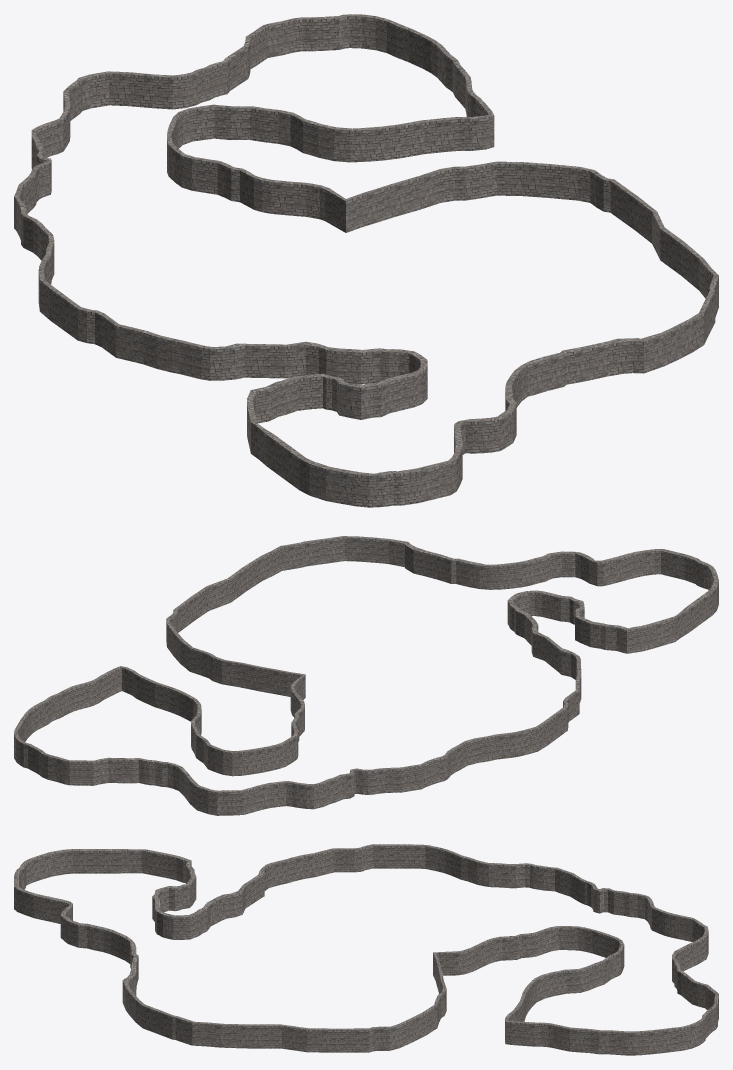
Rendered from FlatK_OuterSupport.fbx.
The picture shows the model from 3 angles, top to bottom: view 1: azimuth 30°, elevation 25°; view 2: azimuth 150°, elevation 25°; view 3: azimuth 270°, elevation 25°; orthographic projection. The views are drawn at different scales.
Visible parts, largest first — view 1: BottomSupport; view 2: BottomSupport; view 3: BottomSupport.
Part boxes in pixels (x1,y1,x2,y2): BottomSupport: [14, 14, 718, 507]; BottomSupport: [14, 536, 718, 815]; BottomSupport: [14, 844, 718, 1055].
Size of the model in its own units: 5952 by 333 by 9408.
